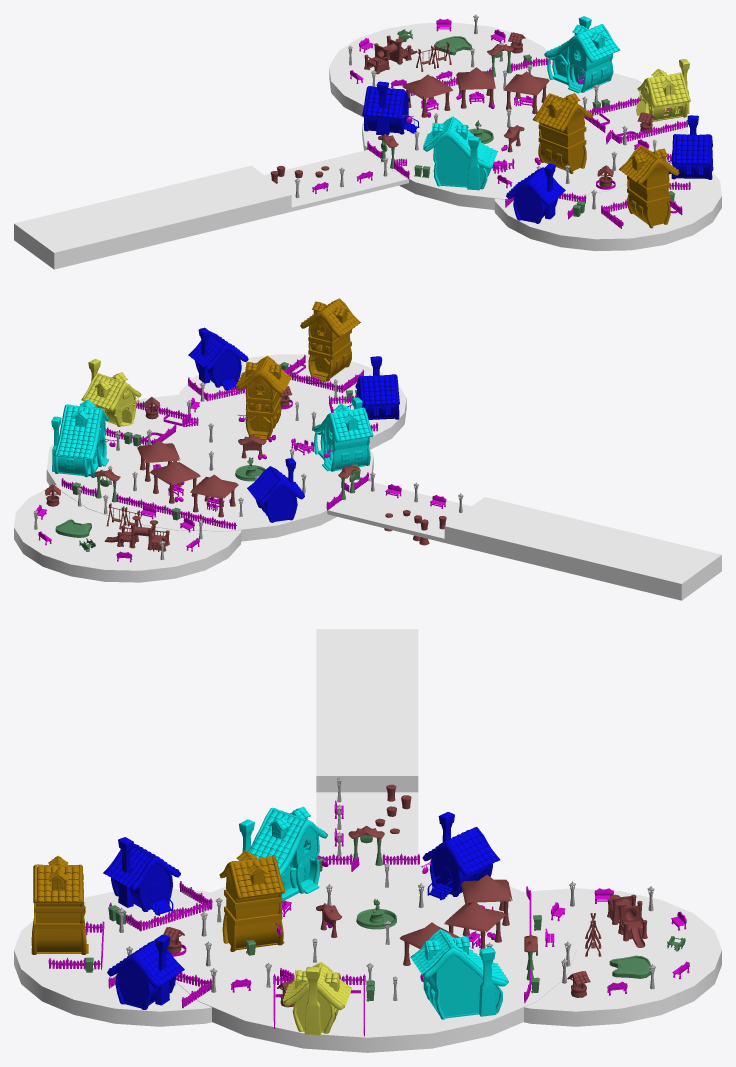
Rendered from Kitty town layout.fbx.
The picture shows the model from 3 angles, top to bottom: view 1: azimuth 30°, elevation 25°; view 2: azimuth 150°, elevation 25°; view 3: azimuth 270°, elevation 25°; orthographic projection. The views are drawn at different scales.
Visible parts, largest first — view 1: Cylinder, HighGround, Cylinder__1_, Cylinder__2_, Ground, pCylinder37 (×5), pCylinder79 (×2), topper (×3), pCube54 (×2), blocks, pCube77, pCube70 (+2 smaller); view 2: Cylinder, HighGround, Cylinder__2_, Ground, Cylinder__1_, pCylinder37 (×5), topper (×3), pCylinder79 (×2), blocks, pCube54, sand_pit, wooden_poles; view 3: Cylinder, HighGround, Cylinder__2_, Cylinder__1_, pCylinder37 (×5), Ground, pCylinder79 (×2), topper (×2), pCube54 (×2), pCube77, pCube50, blocks (+3 smaller).
Boxes of the visible parts, x1,y1,x2,y2 form: Cylinder: (362, 62, 688, 209); HighGround: (14, 165, 291, 269); Cylinder__1_: (494, 162, 721, 251); Cylinder__2_: (329, 22, 552, 117); Ground: (265, 150, 408, 214); pCylinder37 (×5): (515, 84, 711, 225); pCylinder79 (×2): (435, 40, 611, 187); topper (×3): (402, 67, 549, 99); pCube54 (×2): (423, 24, 620, 169); blocks: (367, 39, 417, 72); pCube77: (467, 136, 480, 190); pCube70: (376, 81, 389, 135); Cylinder: (46, 393, 373, 541); HighGround: (444, 497, 721, 600); Cylinder__2_: (14, 485, 241, 582); Ground: (327, 481, 471, 545); Cylinder__1_: (179, 354, 406, 449); pCylinder37 (×5): (94, 334, 350, 521); topper (×3): (137, 440, 238, 498); pCylinder79 (×2): (57, 416, 367, 476); blocks: (104, 521, 167, 550); pCube54: (54, 404, 108, 460); sand_pit: (55, 519, 91, 537); wooden_poles: (117, 516, 169, 551); Cylinder: (168, 861, 576, 1052); HighGround: (316, 629, 418, 792); Cylinder__2_: (524, 888, 721, 1026); Cylinder__1_: (14, 889, 211, 1026); pCylinder37 (×5): (36, 848, 490, 1008); Ground: (316, 792, 418, 864); pCylinder79 (×2): (281, 827, 499, 1018); topper (×2): (444, 874, 512, 932); pCube54 (×2): (248, 807, 508, 986); pCube77: (479, 947, 496, 1016); pCube50: (304, 966, 321, 1035); blocks: (609, 896, 645, 947).
Size of the model in its own units: 3221 by 413 by 2454.
